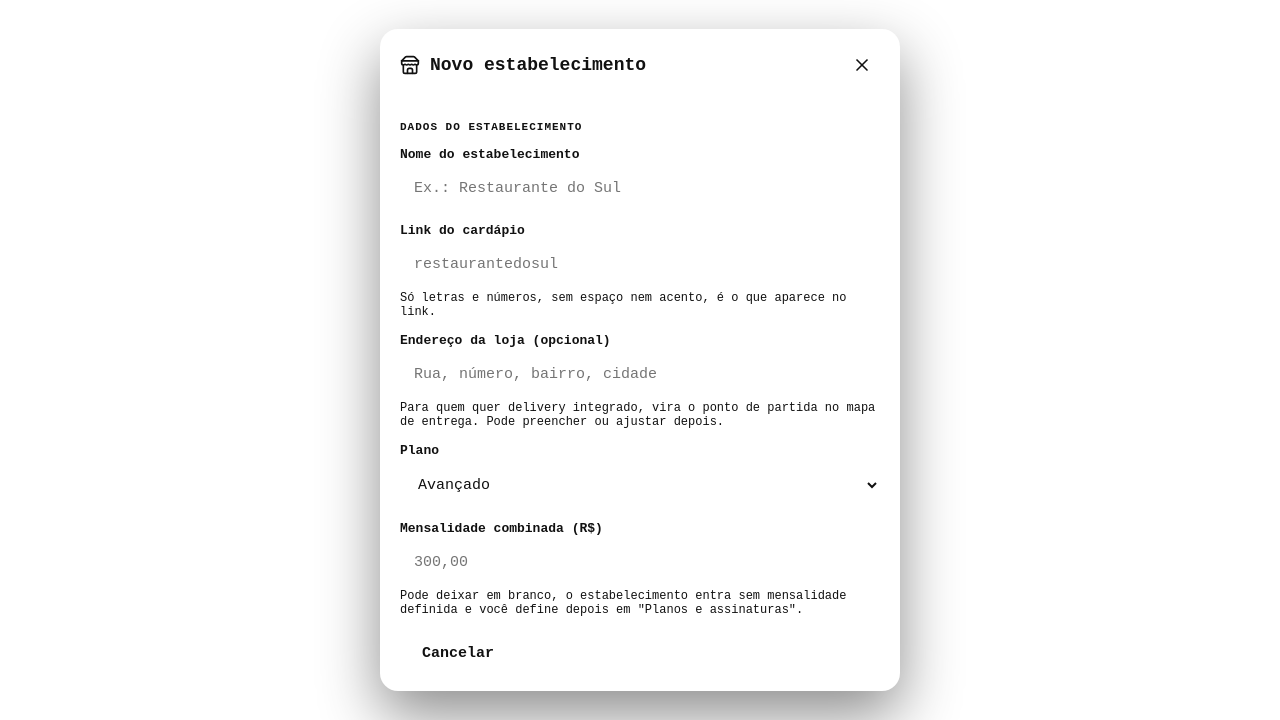
Test: NovoEstabelecimentoModal, o endereço do cardápio › nasce do nome, já no formato que o banco guarda
Step 1. Type "Bar do Zé" into the field labelled "Nome do estabelecimento" → (640, 188), box [400,168,880,209]
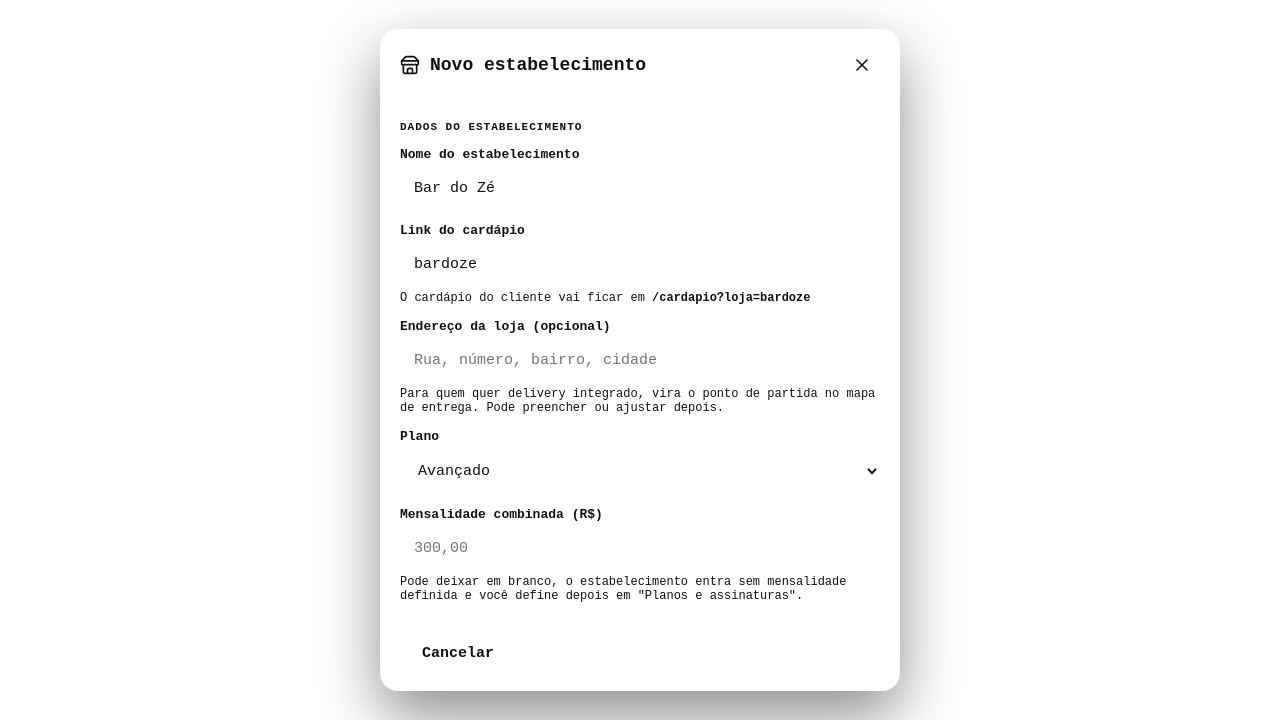
Check: the field labelled "Link do cardápio" holds "bardoze", box [400,244,880,285]
